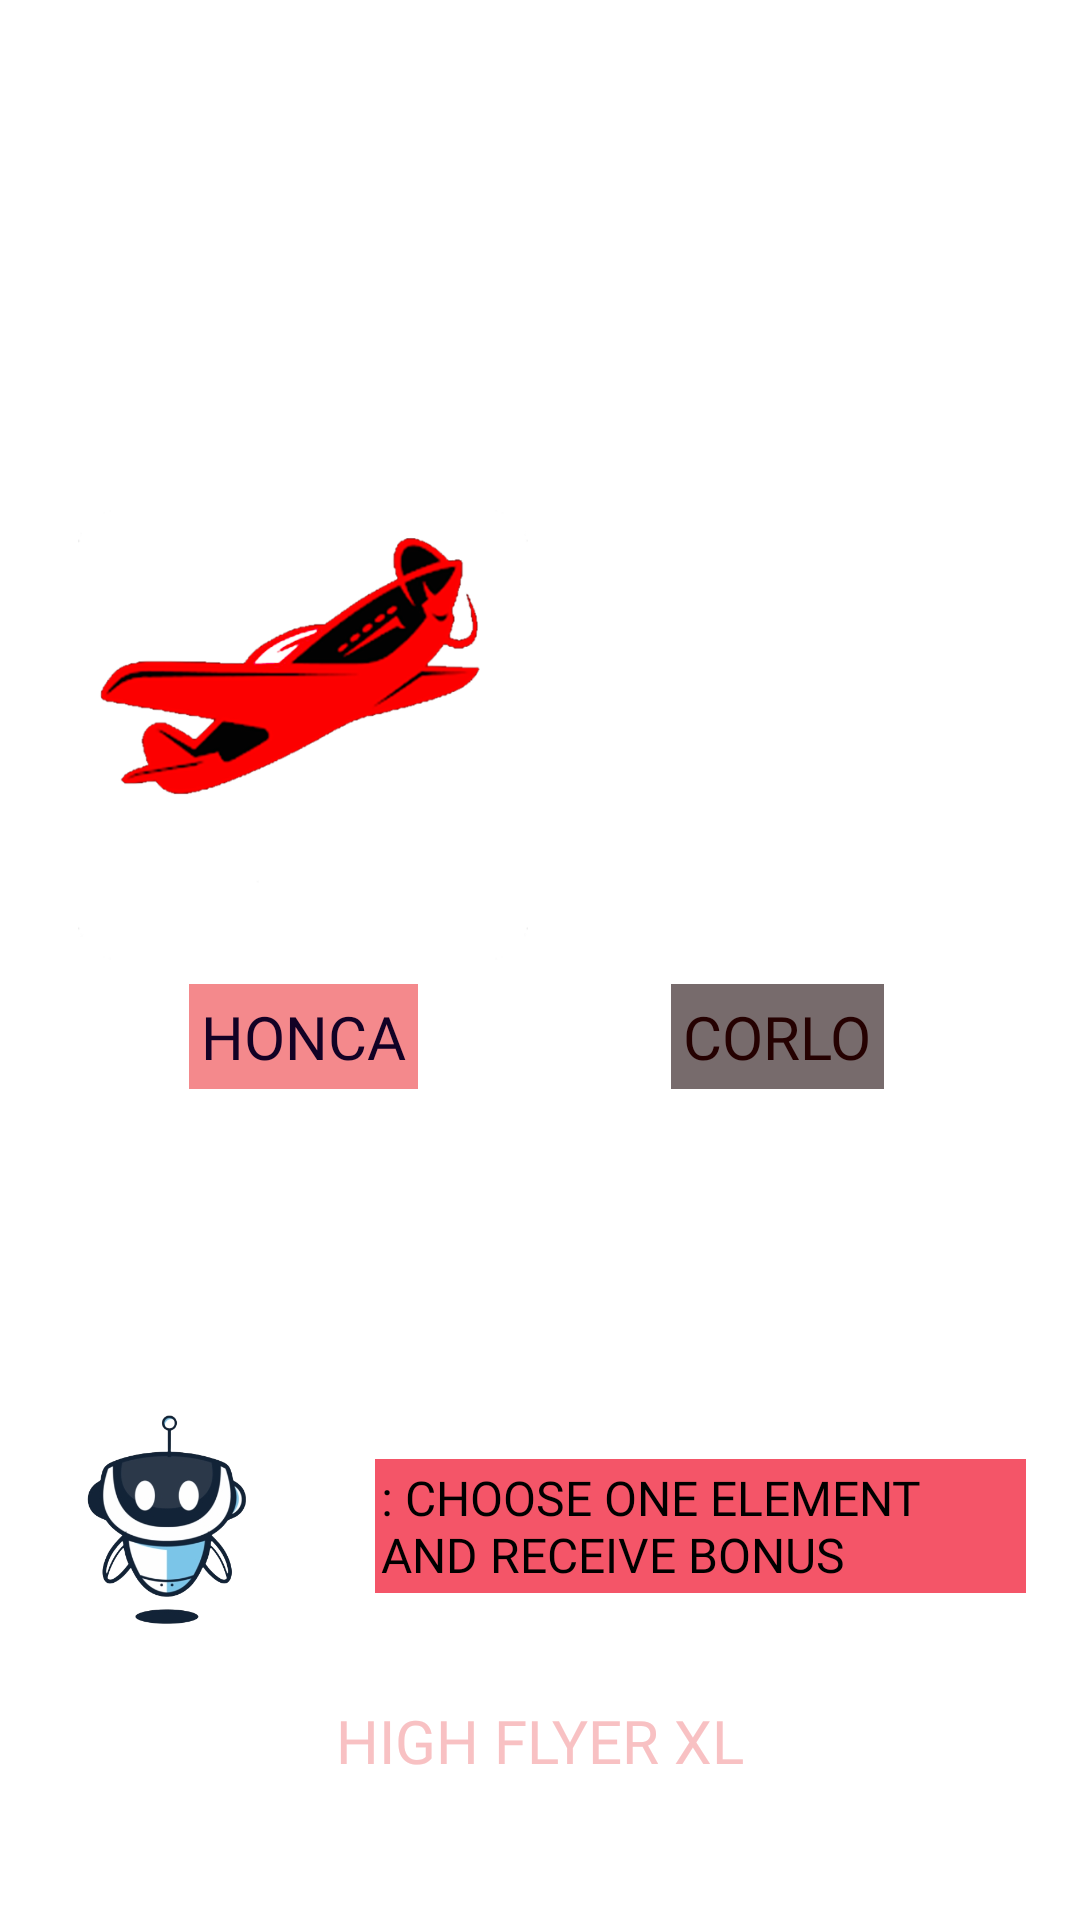

Screen size 1080px×1920px. Icon name, then its box in pixels as (x1, y1, x2, y2):
robot: (87, 1415, 246, 1624)
